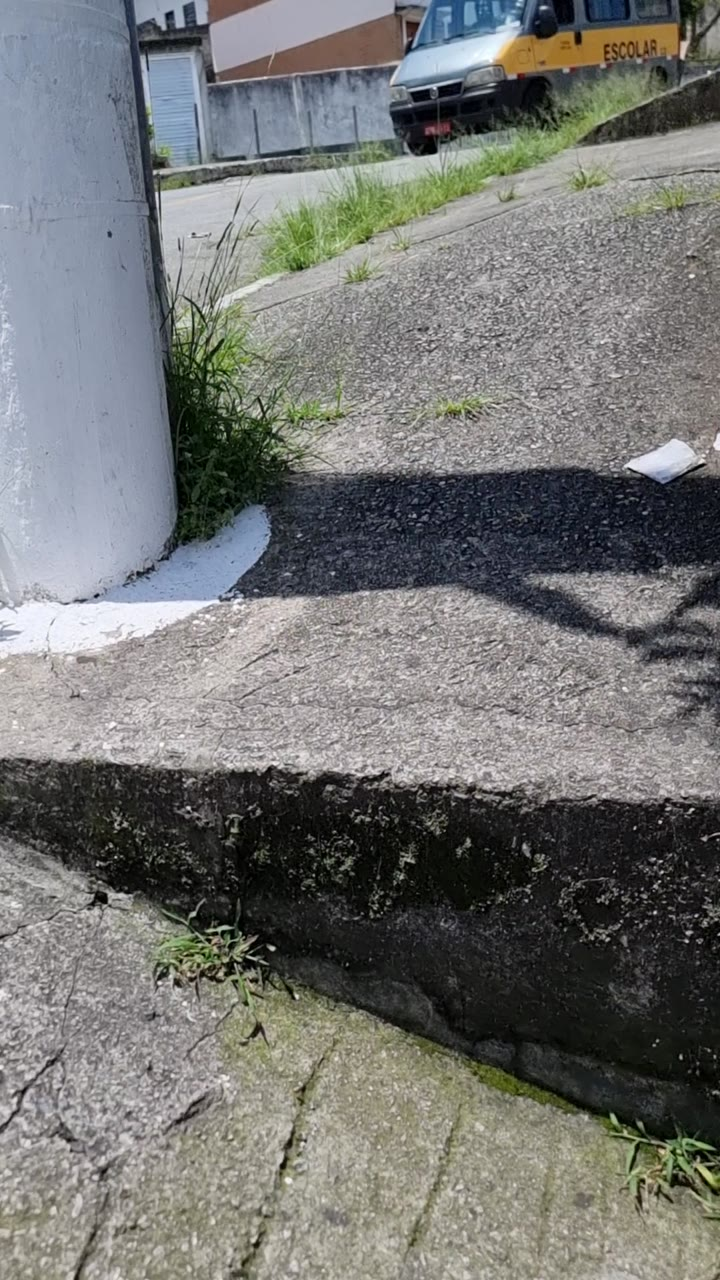desnivel: (0, 730, 720, 973)
obstaculo: (0, 0, 180, 614)
